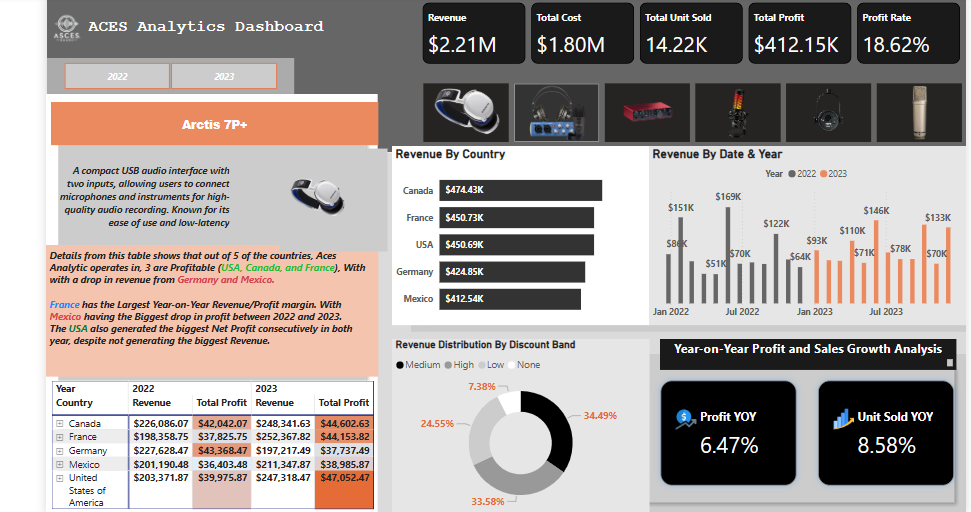

What the dashboard file says about the page in this screenshot:
{"tool":"powerbi","page":{"name":"Aces BD","canvas":[1280,720],"ordinal":0},"visuals":[{"type":"shape","box":[0,0,1280.2,216.8],"z":0},{"type":"cardVisual","fields":{"Data":["Sum(sales_queries.Cost_Price)"]},"box":[0,134.8,461.5,585.2],"z":1000},{"type":"cardVisual","fields":{"Data":["Sum(sales_queries.Cost_Price)"]},"box":[507.3,222.4,772.8,243.2],"z":2000},{"type":"cardVisual","fields":{"Data":["Sum(sales_queries.Cost_Price)"]},"box":[507.3,496.2,772.8,223.8],"z":3000},{"type":"textbox","title":"ACES Analytics Dashboard","box":[54.2,27.8,369.7,29.2],"z":4000},{"type":"clusteredBarChart","title":"Revenue By Country","fields":{"Category":["sales_queries.Country_"],"Y":["BaseMeasures.Revenue"]},"box":[480.5,207.4,357.5,248.8],"z":5000},{"type":"cardVisual","fields":{"Data":["BaseMeasures.Profit YOY","BaseMeasures.Unit Sold YOY"]},"box":[838.1,517.7,441.9,178.8],"z":6000},{"type":"donutChart","title":"Revenue Distribution By Discount Band","fields":{"Category":["sales_queries.Discount_Band"],"Y":["BaseMeasures.Revenue"]},"box":[480.5,474.8,357.5,244.6],"z":7000},{"type":"cardVisual","fields":{"Data":["BaseMeasures.Revenue","BaseMeasures.Total product Cost","BaseMeasures.Total Unit Sold","BaseMeasures.Net Proft","BaseMeasures.Profit Rate"]},"box":[518.5,2.8,761.7,95.9],"z":8000},{"type":"image","box":[0,0,54.2,84.8],"z":9000},{"type":"pivotTable","fields":{"Rows":["sales_queries.Country","sales_queries.Customer_Type","sales_queries.Product"],"Columns":["sales_queries.Year"],"Values":["BaseMeasures.Revenue","BaseMeasures.Total Proft"]},"box":[2.8,528.2,458.7,191.8],"z":10000},{"type":"slicer","fields":{"Values":["Date.Year"]},"box":[0,84.8,344.7,50],"z":11000},{"type":"textbox","box":[0,344.4,461.9,183.1],"z":12000},{"type":"cardVisual","fields":{"Data":["Min(sales_queries.Image_url)"]},"box":[320.4,205.9,160.2,153],"z":13000},{"type":"cardVisual","fields":{"Data":["Min(sales_queries.Product)"]},"box":[6.7,146.1,455.2,60.5],"z":14000},{"type":"cardVisual","fields":{"Data":["Min(sales_queries.Description)"]},"box":[0,206.6,272.1,176.4],"z":15000},{"type":"clusteredColumnChart","title":"Revenue By Date & Year","fields":{"Y":["BaseMeasures.Revenue"],"Series":["Date.Year"],"Category":["Date.Date"]},"box":[838.1,207.1,442,248.8],"z":16000},{"type":"textbox","title":"Year-on-Year Profit and Sales Growth Analysis","box":[853.8,474.8,411.9,42.9],"z":17000},{"type":"advancedSlicerVisual","fields":{"Values":["sales_queries.Image_url"]},"box":[519.2,115.8,760.8,91.5],"z":17001}]}

Visuals, with their boxes on the page's 1280x720 design canvas (x1, y1, x2, y2). These are canvas units, not pixel positions in the 971x512 screenshot, which may show the page scaled, cropped or inside an application window:
shape: [0, 0, 1280, 217]
cardVisual - Sum(sales_queries.Cost_Price): [0, 135, 462, 720]
cardVisual - Sum(sales_queries.Cost_Price): [507, 222, 1280, 466]
cardVisual - Sum(sales_queries.Cost_Price): [507, 496, 1280, 720]
"ACES Analytics Dashboard" textbox: [54, 28, 424, 57]
"Revenue By Country" clusteredBarChart: [480, 207, 838, 456]
cardVisual - BaseMeasures.Profit YOY x BaseMeasures.Unit Sold YOY: [838, 518, 1280, 696]
"Revenue Distribution By Discount Band" donutChart: [480, 475, 838, 719]
cardVisual - BaseMeasures.Revenue x BaseMeasures.Total product Cost: [518, 3, 1280, 99]
image: [0, 0, 54, 85]
pivotTable - sales_queries.Country x sales_queries.Customer_Type: [3, 528, 462, 720]
slicer - Date.Year: [0, 85, 345, 135]
textbox: [0, 344, 462, 528]
cardVisual - Min(sales_queries.Image_url): [320, 206, 481, 359]
cardVisual - Min(sales_queries.Product): [7, 146, 462, 207]
cardVisual - Min(sales_queries.Description): [0, 207, 272, 383]
"Revenue By Date & Year" clusteredColumnChart: [838, 207, 1280, 456]
"Year-on-Year Profit and Sales Growth Analysis" textbox: [854, 475, 1266, 518]
advancedSlicerVisual - sales_queries.Image_url: [519, 116, 1280, 207]
